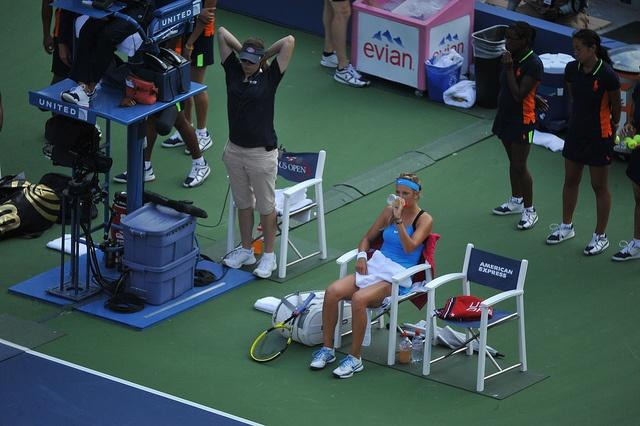Kursi: (421, 241, 529, 392), (273, 146, 328, 278)
